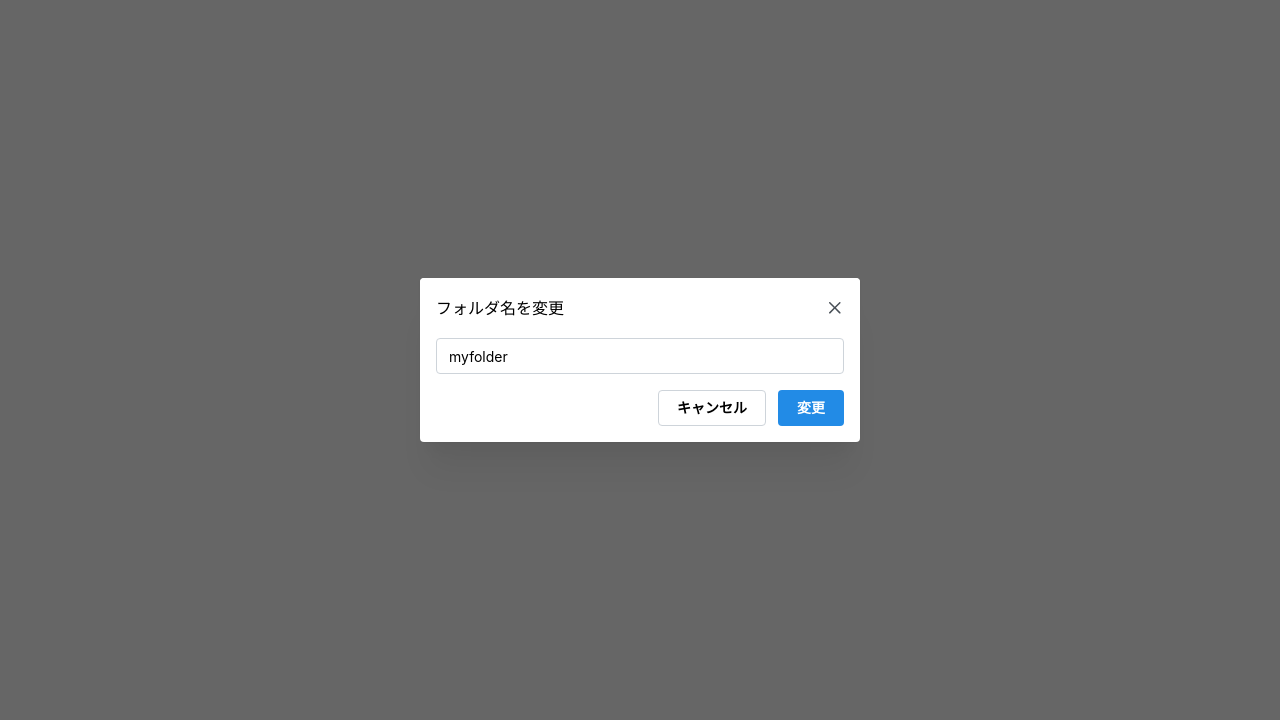
Test: RenameDialog › error handling from hook › should display duplicate files list when folder rename has duplicates
This screenshot has width=1280, height=720.
Replace the text in the field with "newfolder" at (640, 356), box 436,338 -> 844,374
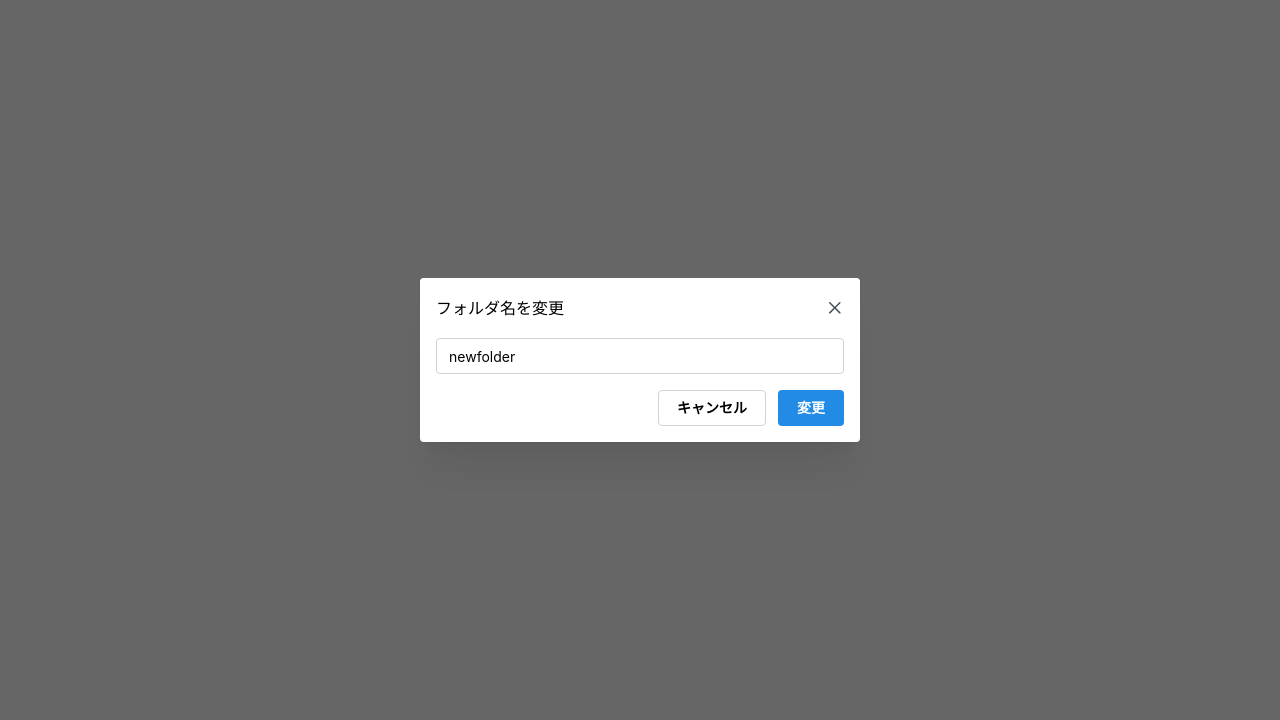
Click the button "変更" at (811, 408), box 778,390 -> 844,426
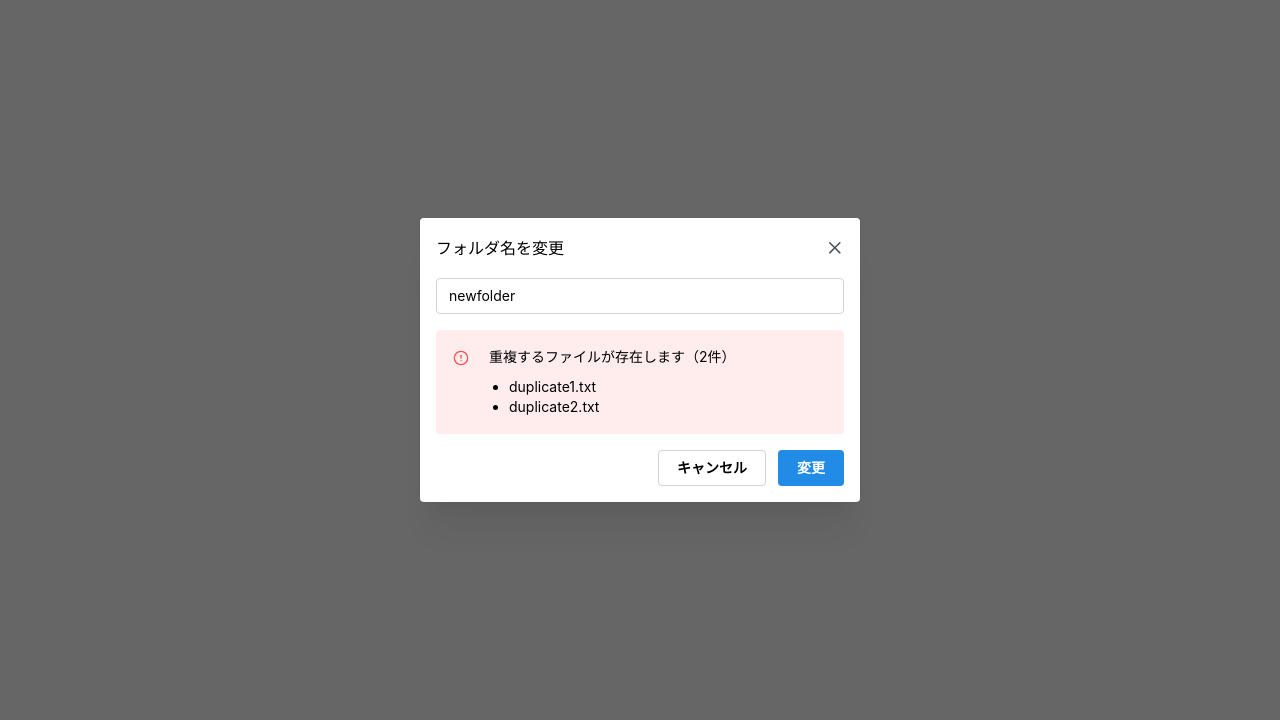
Expected: the text "duplicate1.txt" is shown, 509,377 -> 596,397
Expected: the text "duplicate2.txt" is shown, 509,397 -> 600,417
